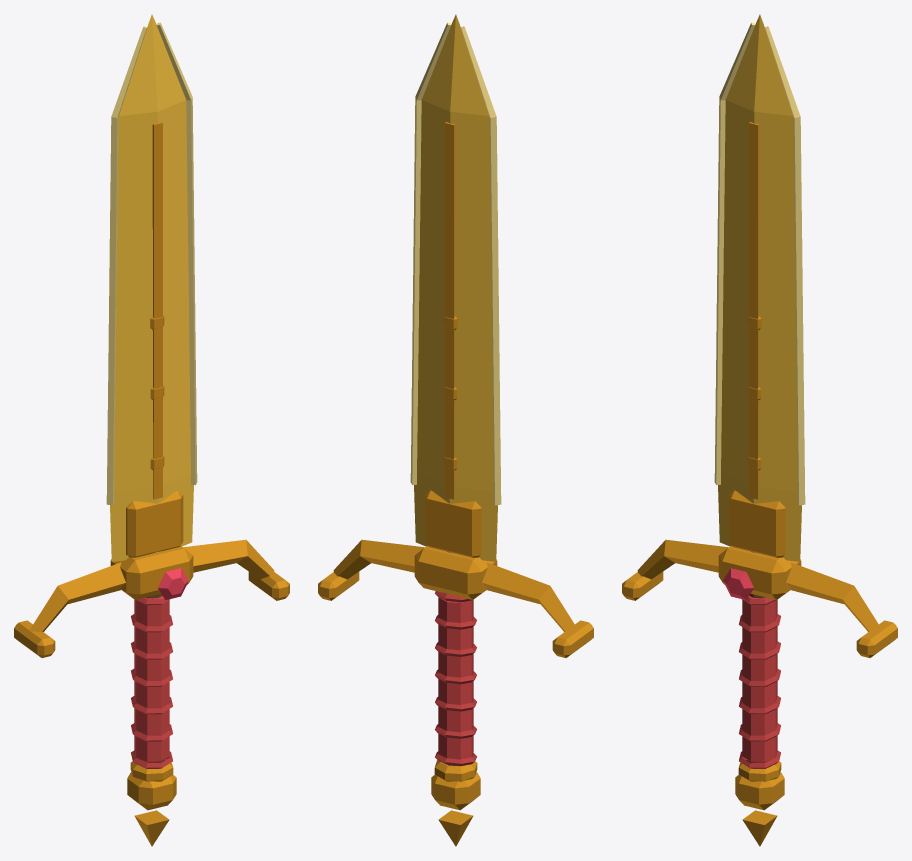
The model's file is GoldGreatsword.fbx.
3 views of the same model, side by side, from view 1: azimuth 30°, elevation 25°; view 2: azimuth 150°, elevation 25°; view 3: azimuth 330°, elevation 25° (orthographic).
Visible parts, largest first — view 1: GoldGreatsword; view 2: GoldGreatsword; view 3: GoldGreatsword.
Boxes of the visible parts, box(x1,y1,x2,y2) form: GoldGreatsword: box(14, 14, 289, 846); GoldGreatsword: box(318, 14, 593, 846); GoldGreatsword: box(622, 14, 897, 846).
Bounding box in the file's own units: 2.26 × 7.12 × 0.6.
1 material, 1 textured.
